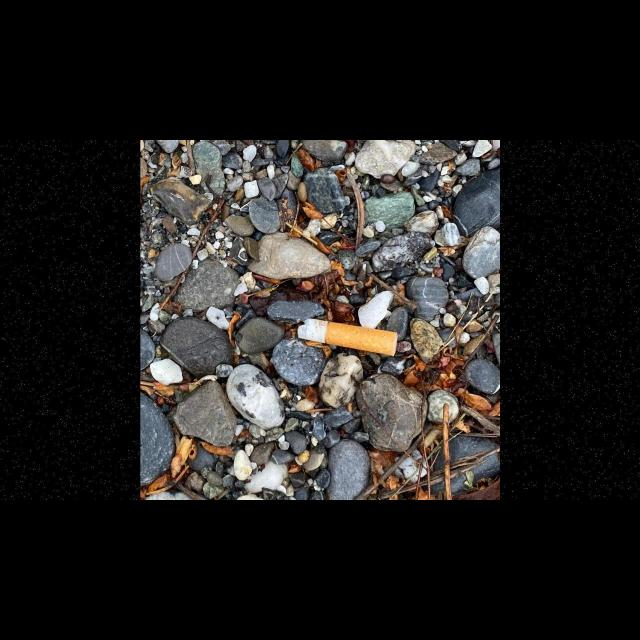cigarette: (296, 317, 400, 356)
